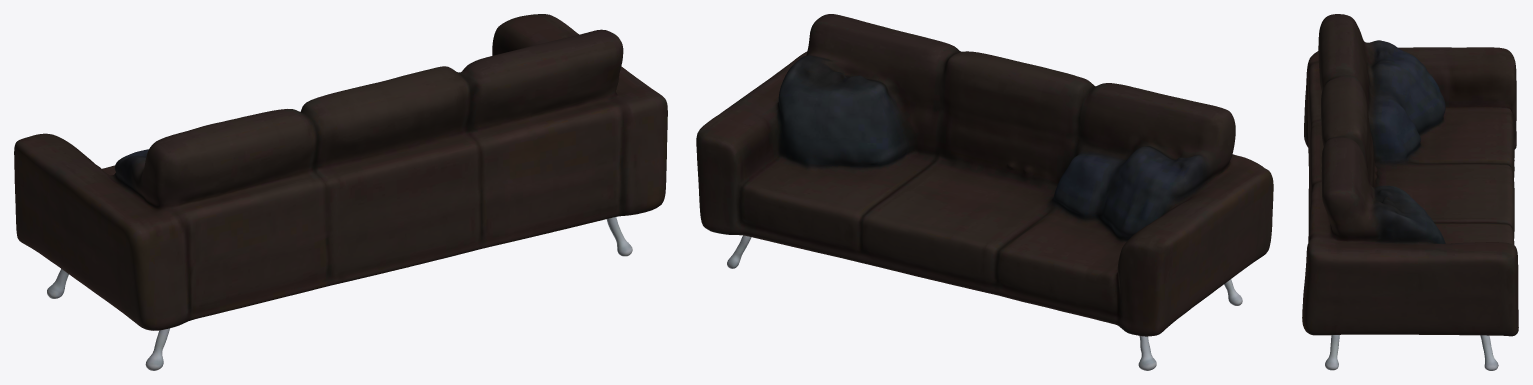
The model's file is Sofa3D.glb.
The picture shows the model from 3 angles, left to right: view 1: azimuth 30°, elevation 25°; view 2: azimuth 150°, elevation 25°; view 3: azimuth 270°, elevation 25°; orthographic projection. The views are drawn at different scales.
Parts seen in each view (by area): view 1: Node1; view 2: Node1; view 3: Node1.
Part boxes in pixels (x1,y1,x2,y2): Node1: (14, 14, 667, 370); Node1: (696, 14, 1273, 370); Node1: (1302, 14, 1518, 370).
Size of the model in its own units: 1 by 0.3927 by 0.4331.
1 material, 1 textured.
